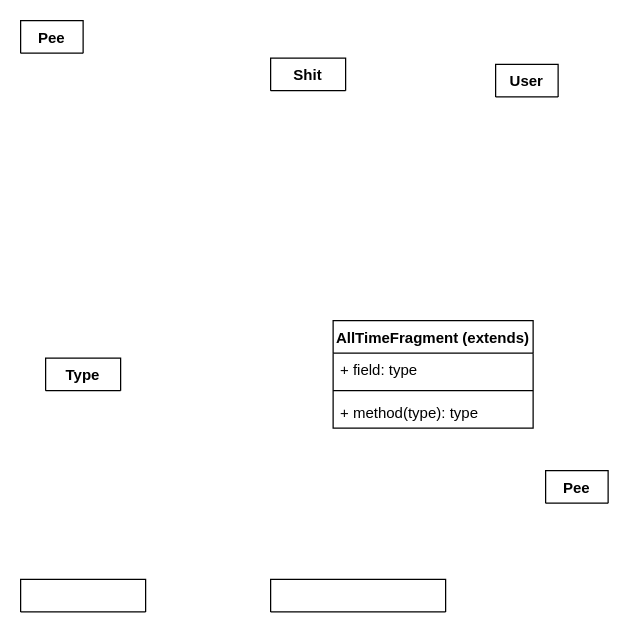
The diagram is 629 pixels wide and 633 high, and some of its shapes have lost their labels. Here are the shapes that lost their labels. From the top down, the centre of each, then its label:
the point at 82,595: DataAccess
the point at 357,595: MySQLConnection
